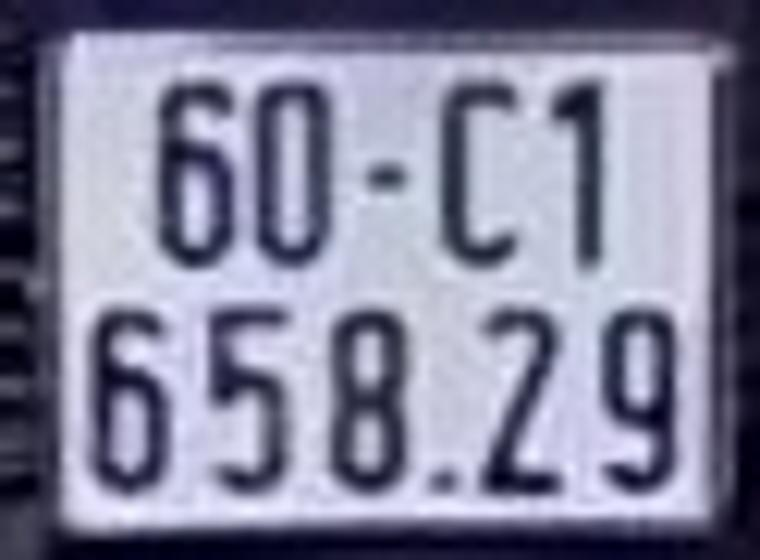-: (353, 159, 417, 202)
.: (423, 447, 466, 507)
0: (253, 72, 337, 270)
2: (471, 296, 584, 505)
5: (199, 296, 303, 499)
6: (82, 305, 179, 504), (151, 75, 246, 275)
8: (322, 296, 420, 503)
9: (601, 300, 687, 495)
C: (428, 68, 526, 274), (548, 68, 614, 272)
